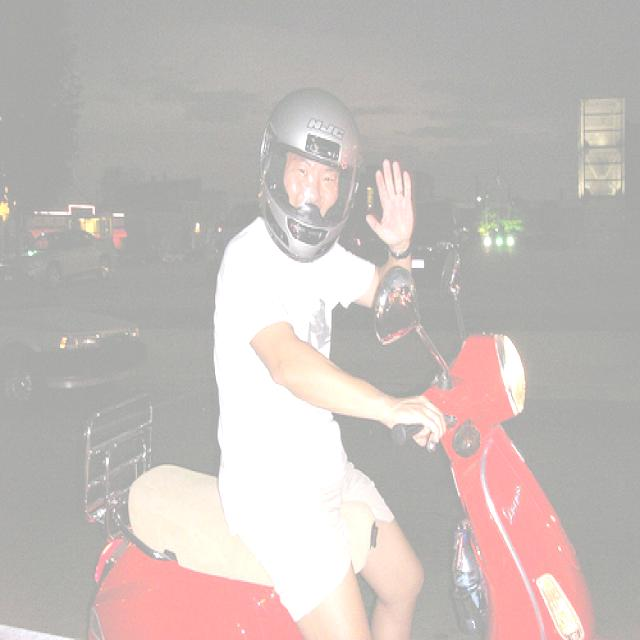Car: (0, 263, 149, 411), (5, 230, 121, 284)
Motorbike: (87, 257, 594, 640)
